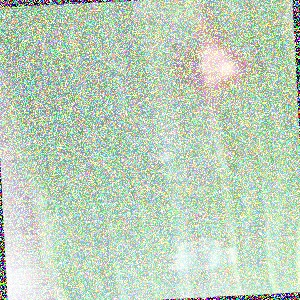Brown_Spot: (180, 9, 255, 107)
